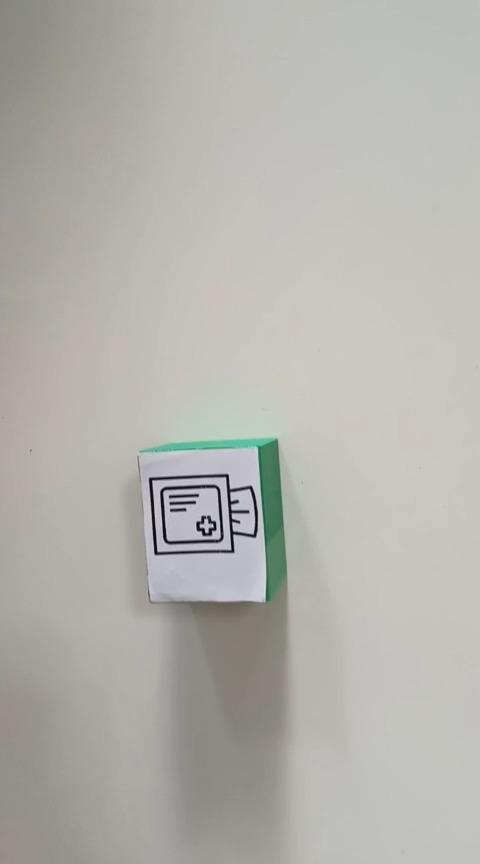Gauze: (136, 436, 287, 604)
